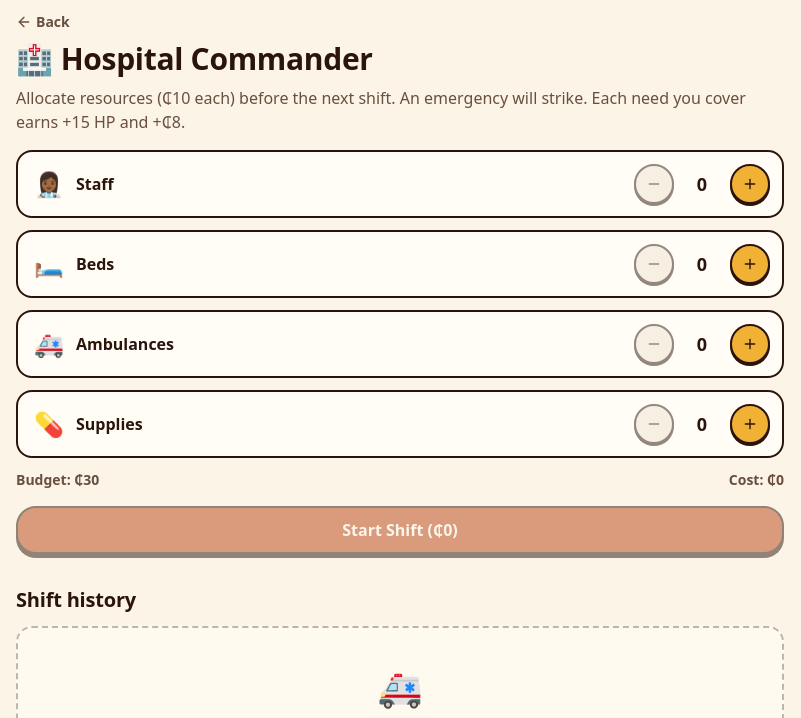
Test: Hospital Commander › never lets the allocation exceed the budget and sends it to the server
Expected: the button "Start Shift (₵0)" is disabled, top-left (16, 506), bottom-right (784, 554)
Click the button named "More Staff" at [750, 184], box top-left (730, 164), bottom-right (770, 204)
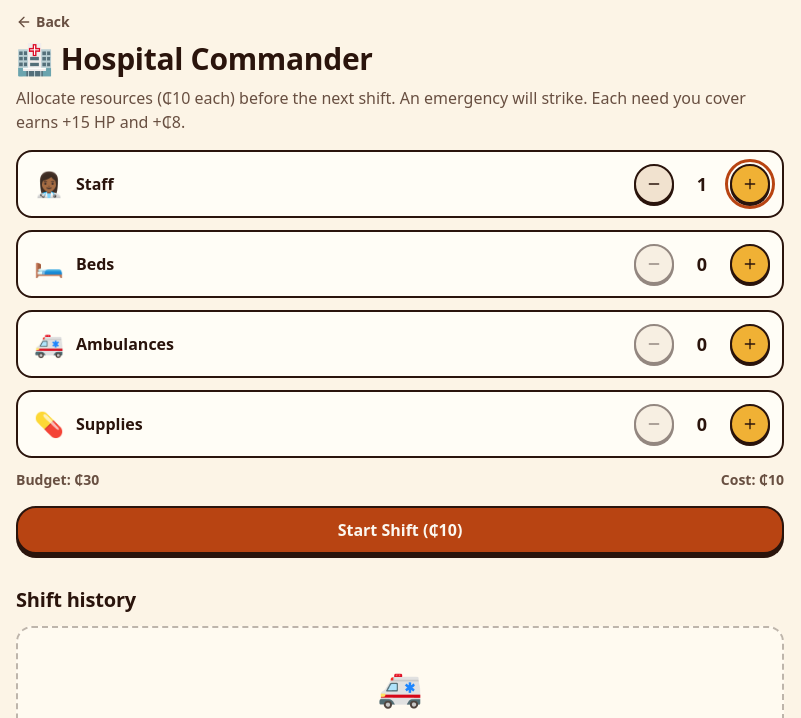
Click the button named "More Staff" at [750, 184], box top-left (730, 164), bottom-right (770, 204)
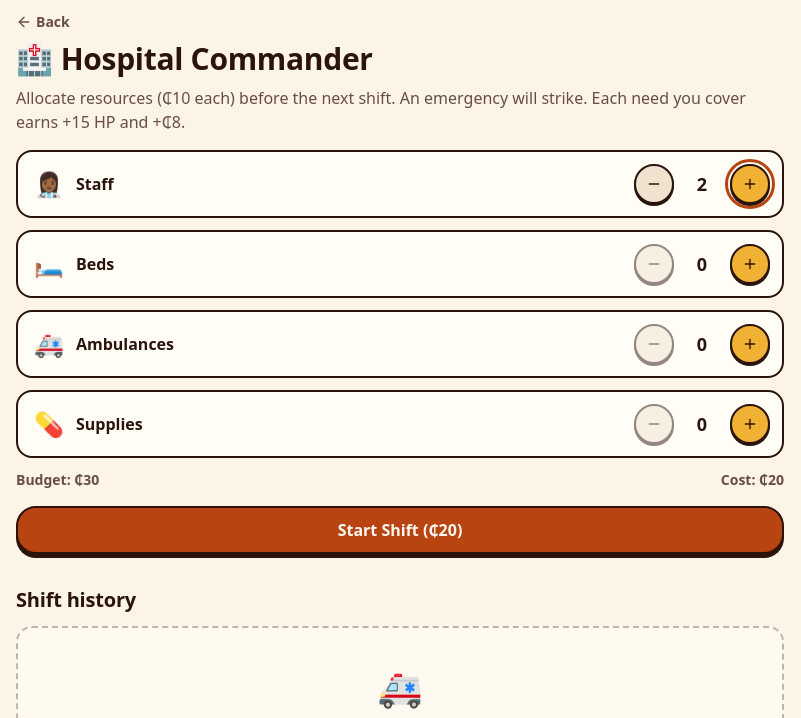
Click the button named "More Beds" at [750, 264], box top-left (730, 244), bottom-right (770, 284)
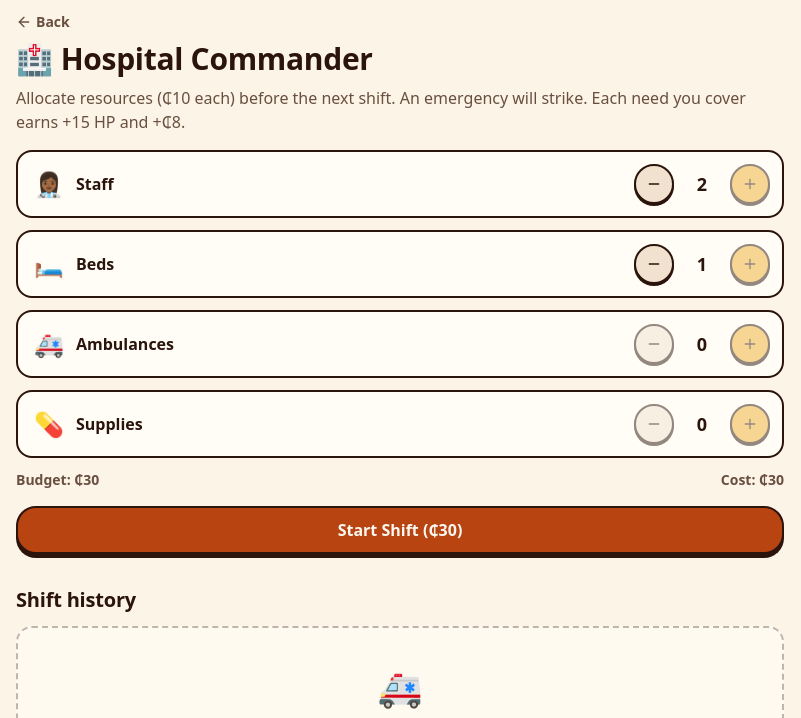
Now the button "Start Shift (₵30)" is enabled
Now the button named "More Staff" is disabled, box top-left (730, 164), bottom-right (770, 204)
Click the button "Start Shift (₵30)" at [400, 530], box top-left (16, 506), bottom-right (784, 554)
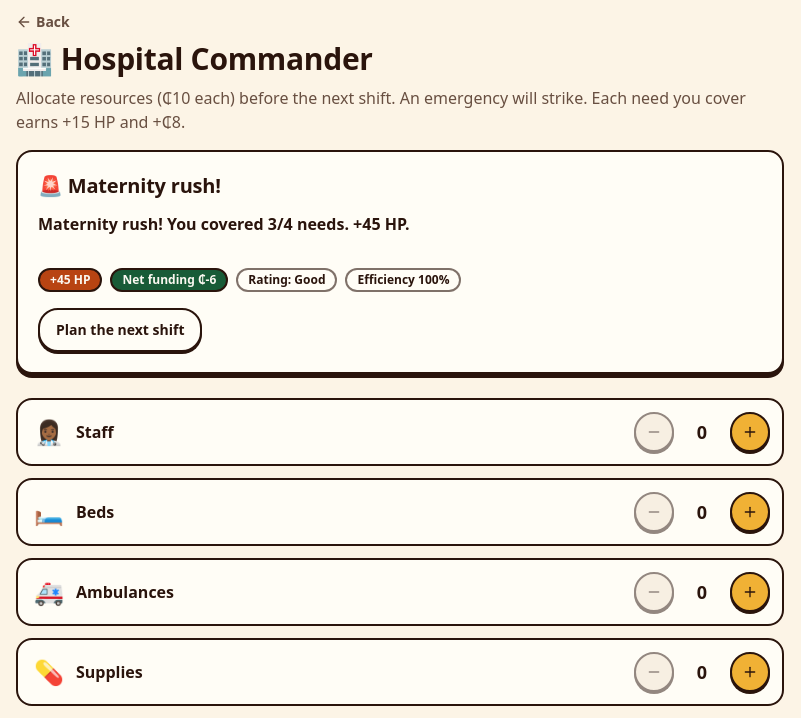
Now the text "Maternity rush! You covered 3/4 needs. +45 HP." is shown, box top-left (38, 212), bottom-right (410, 234)
